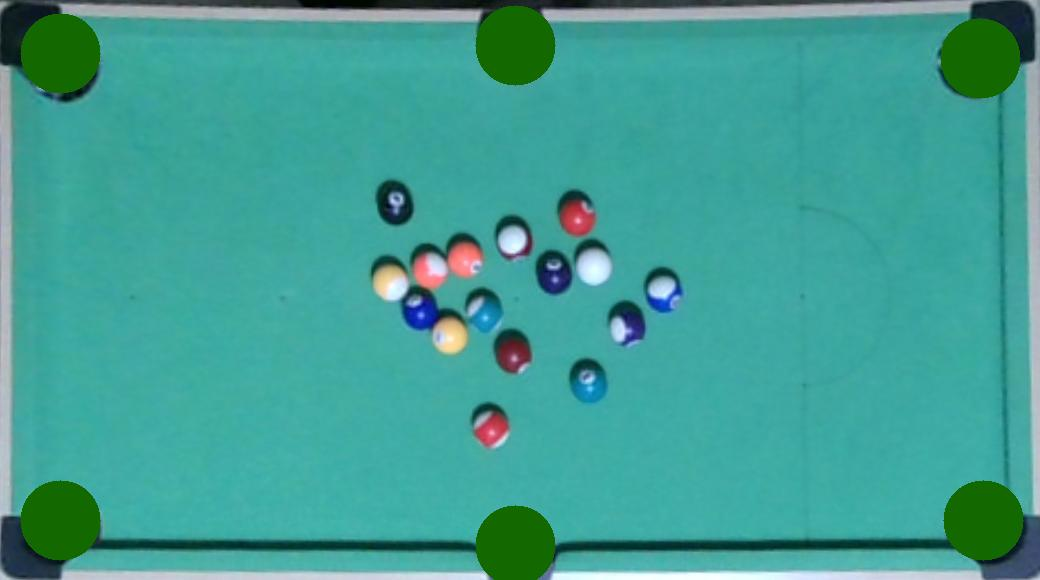Ball: (533, 252, 575, 295), (461, 291, 504, 333), (401, 289, 443, 330), (644, 269, 684, 311), (376, 183, 416, 225), (371, 262, 412, 302), (492, 331, 531, 373), (411, 246, 449, 289), (558, 195, 598, 235), (609, 308, 649, 348), (575, 247, 615, 286), (471, 408, 510, 447), (571, 364, 609, 404), (447, 239, 484, 277), (496, 224, 534, 261), (431, 320, 468, 352)
